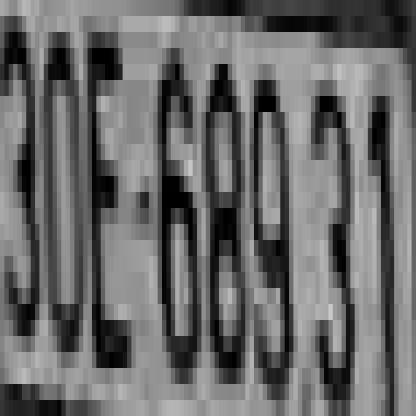0: (43, 16, 88, 352)
1: (359, 96, 403, 400)
3: (306, 80, 354, 400)
6: (158, 48, 202, 368)
8: (202, 64, 246, 384)
9: (245, 48, 289, 384)
E: (87, 32, 136, 368)
